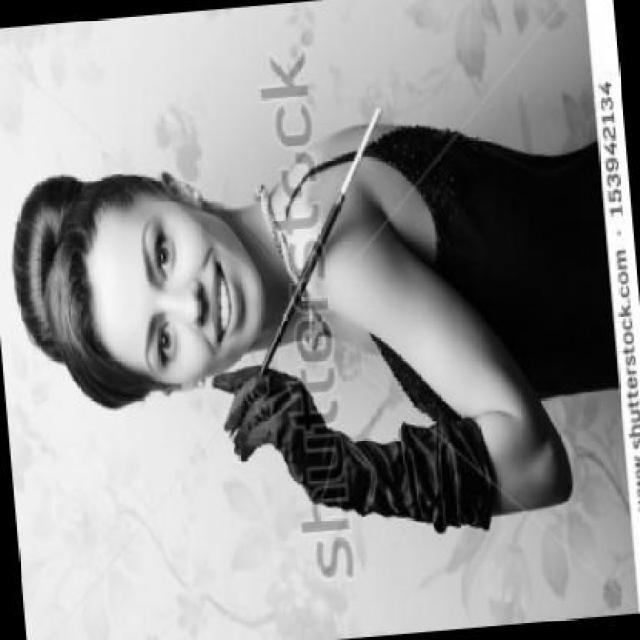cigarette: (338, 100, 391, 183)
